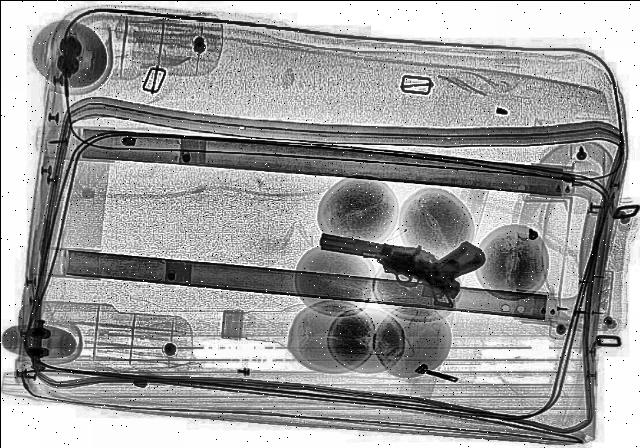Gun: (301, 228, 475, 307), (364, 218, 498, 300)
